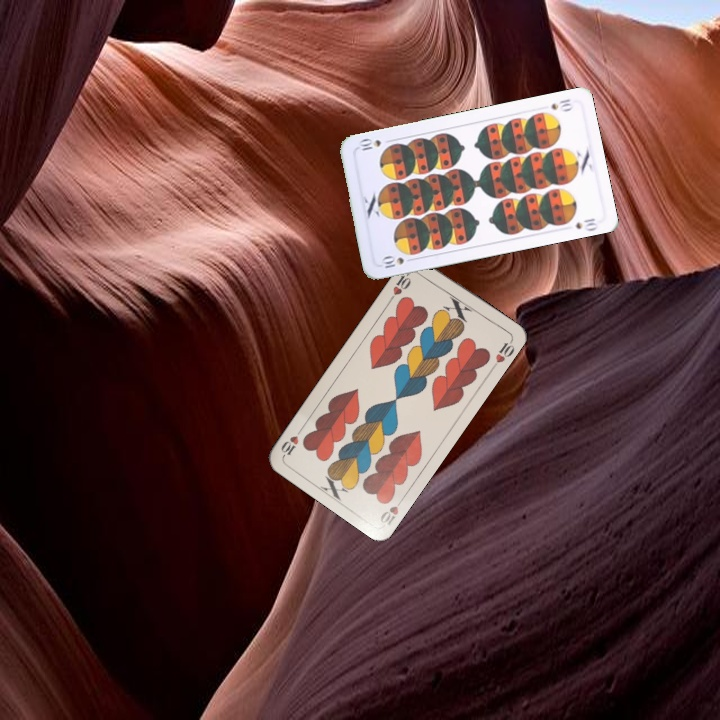H10: (376, 492, 408, 528), (386, 267, 414, 303)
S10: (377, 252, 417, 271), (546, 95, 576, 114)
